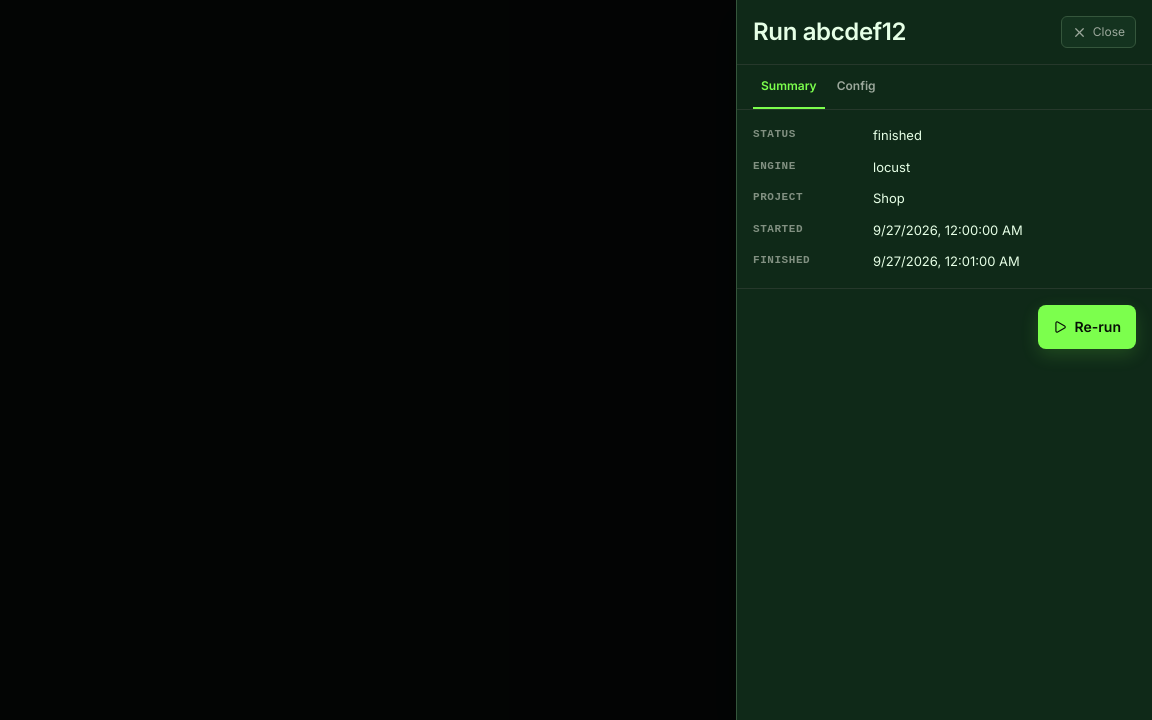
Test: RunDetailsDrawer › switches between Summary and Config tabs
This screenshot has width=1152, height=720.
expect the text "locust" is shown: met, box [873,158,910,174]
expect the text "\"engine\": \"locust\"" is not shown: met
Click the tab "Config" at (856, 87), box [829,65,884,109]
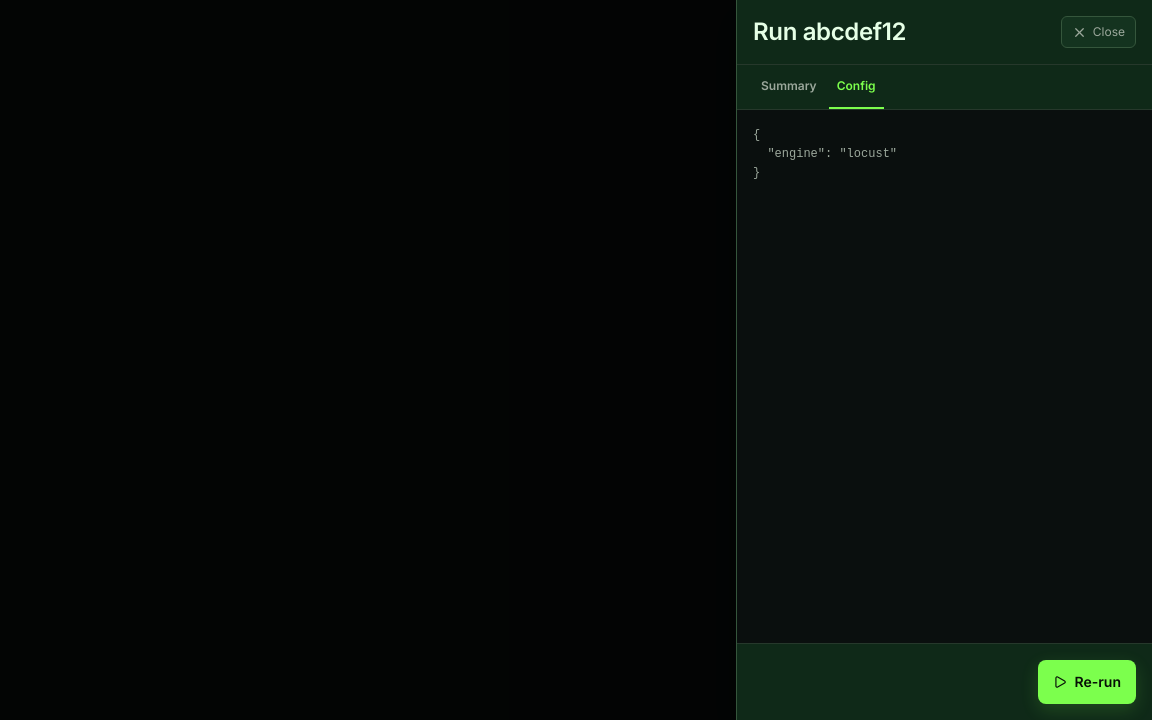
expect the text "{ \"engine\": \"locust\" }" is shown: met, box [737,110,1151,643]
